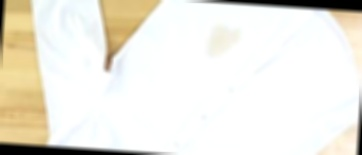coffee: (202, 23, 242, 61)
